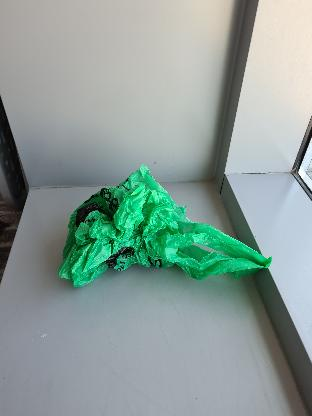Plastic Bag: (56, 166, 274, 290)
